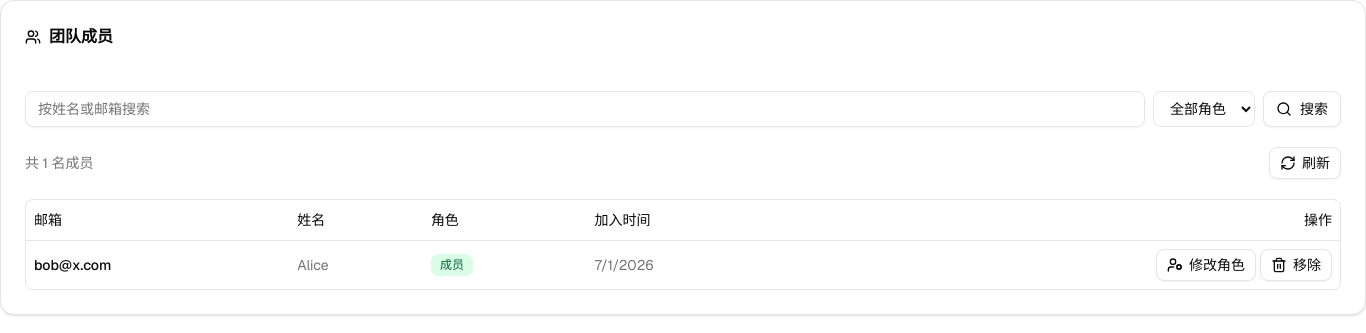
Test case: TeamMembersManager - 键盘交互 › 操作按钮区按 Escape 取消编辑
Expected: the text "bob@x.com" is shown, [26,240,289,288]
Click the button "修改角色" at (1206, 264), box [1156,248,1256,280]
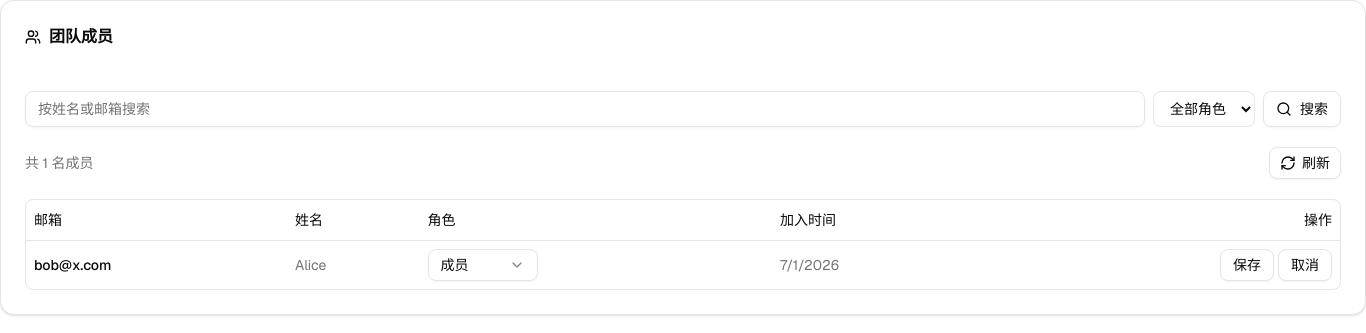
Press Escape in the element with test id "role-edit-actions", box [1220,248,1332,280]
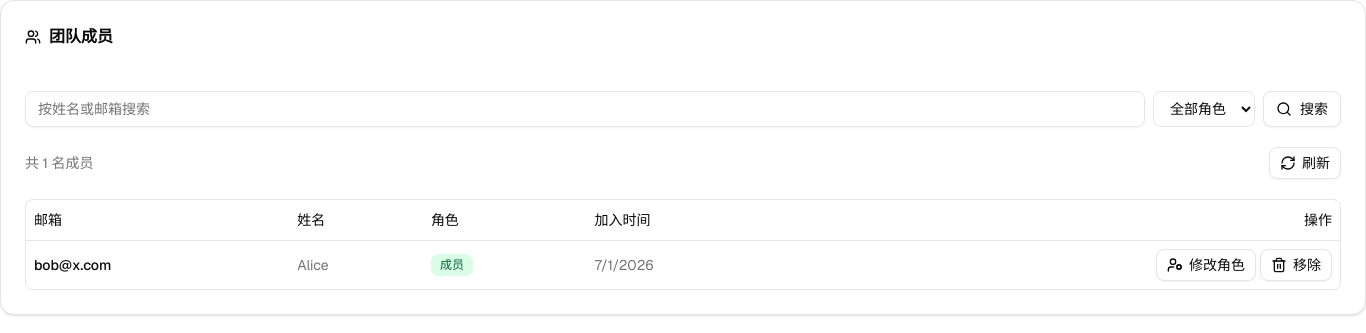
Expected: the button "保存" is gone
